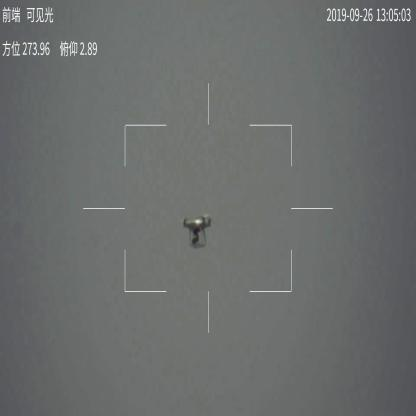uav: (183, 211, 223, 250)
